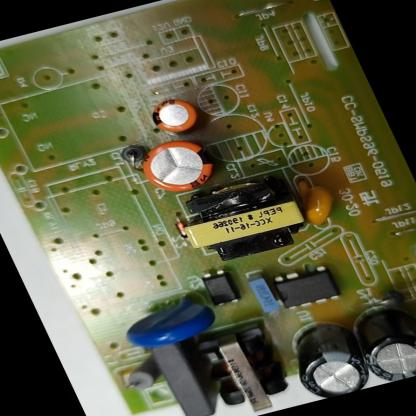Cap1: (128, 131, 229, 204)
Cap2: (140, 89, 212, 140)
Cap3: (272, 313, 380, 403)
Cap4: (339, 298, 416, 386)
MOSFET: (264, 260, 348, 316)
Mov: (108, 284, 227, 355)
Resistor: (114, 353, 173, 396)
Transformer: (165, 166, 321, 270), (180, 314, 308, 416)
